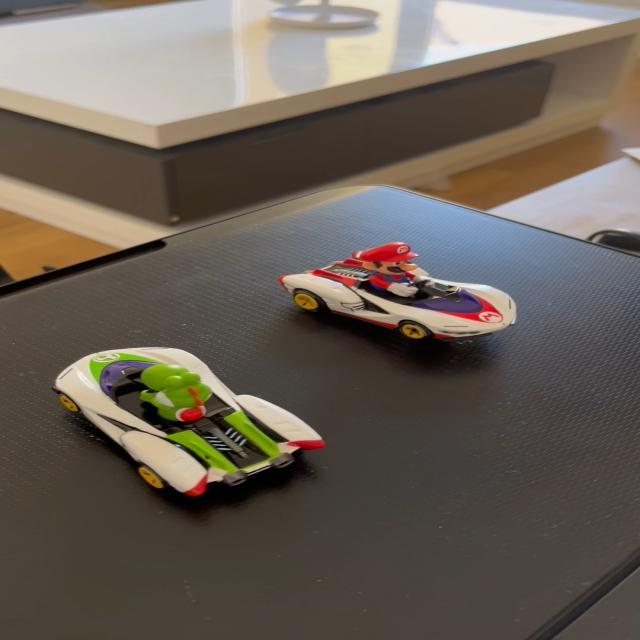mario: (266, 237, 534, 342)
yoshi: (44, 339, 337, 509)
